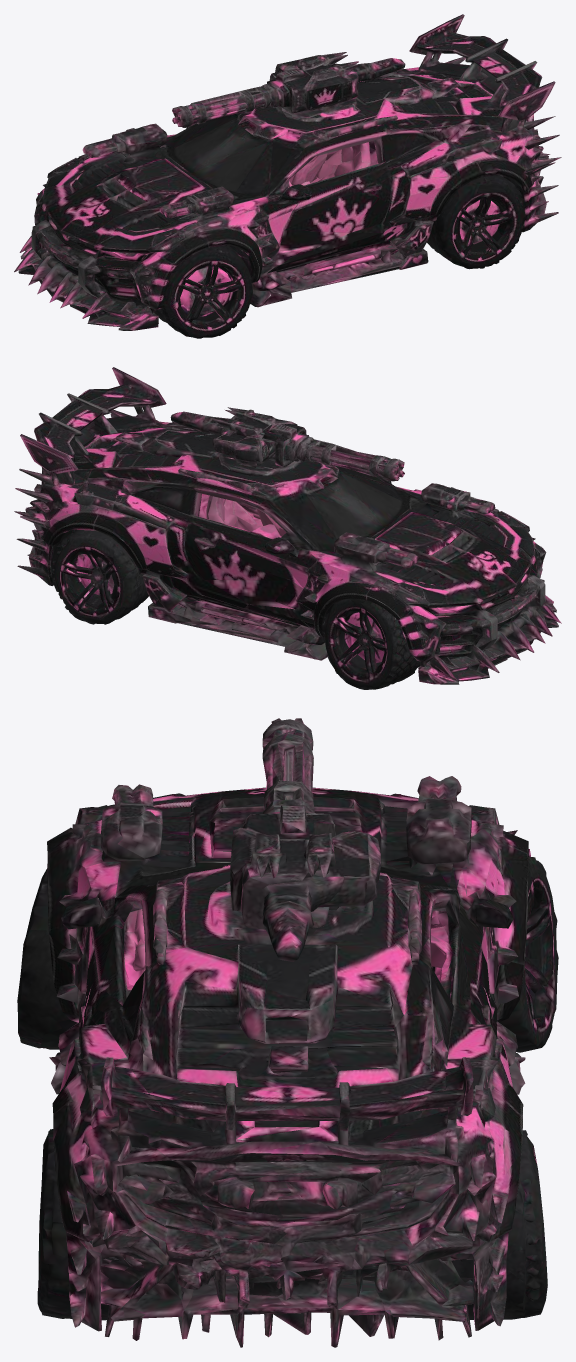
File: venom.glb
The picture shows the model from 3 angles, top to bottom: view 1: azimuth 30°, elevation 25°; view 2: azimuth 150°, elevation 25°; view 3: azimuth 270°, elevation 25°; orthographic projection. The views are drawn at different scales.
Visible parts, largest first — view 1: Mesh_0; view 2: Mesh_0; view 3: Mesh_0.
Part boxes in pixels (box(x1,y1,x2,y2)): Mesh_0: box(14, 14, 561, 338); Mesh_0: box(14, 367, 561, 689); Mesh_0: box(17, 718, 558, 1347).
Size of the model in its own units: 1.9 by 0.679 by 0.8985.
1 material, 1 textured.
